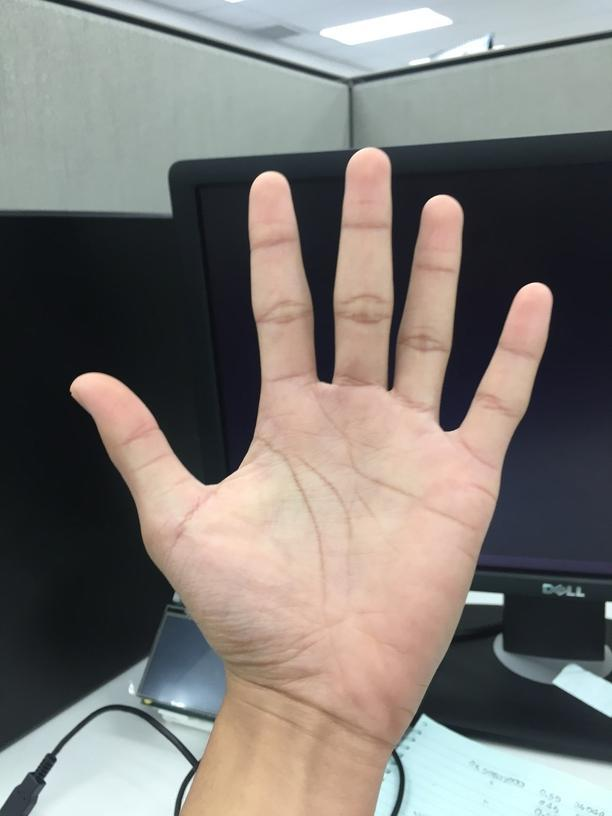hand: (67, 142, 560, 742)
